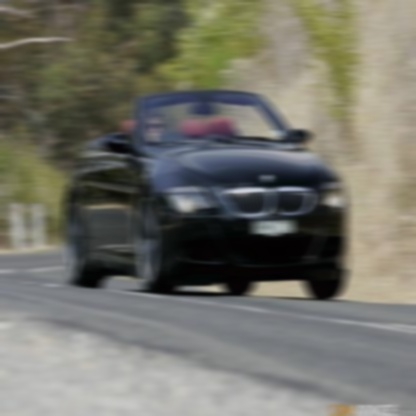Vehicle: (63, 92, 350, 302)
